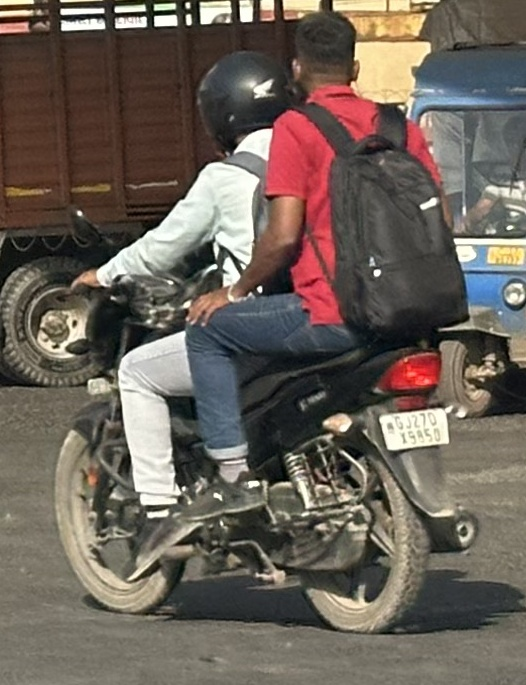BikeWithRider: (39, 9, 485, 642)
Helmet: (185, 42, 300, 167)
NoHelmet: (282, 9, 368, 104)
